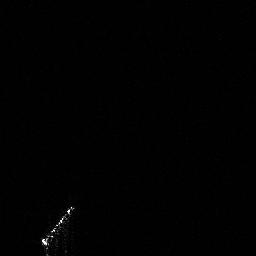ship: (37, 201, 78, 256)
